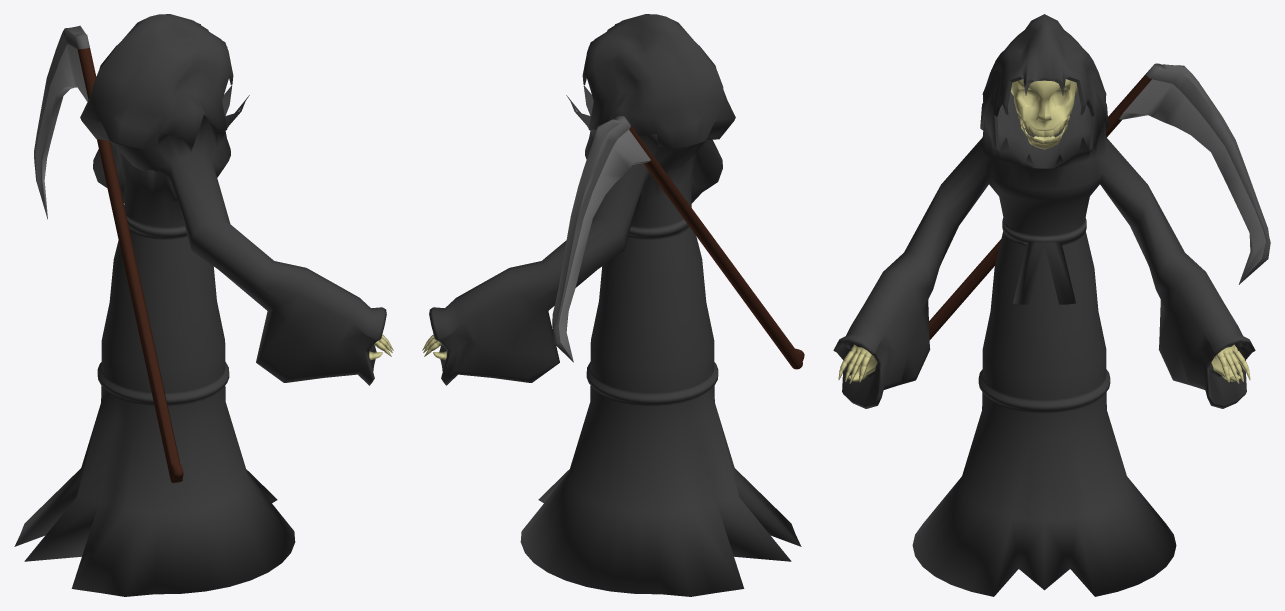
File: reaperwithscythe2.fbx
3 renders of one model, left to right at view 1: azimuth 30°, elevation 25°; view 2: azimuth 150°, elevation 25°; view 3: azimuth 270°, elevation 25°, orthographic.
Visible parts, largest first — view 1: Body, Scythe; view 2: Body, Scythe; view 3: Body, Scythe, Head.
Boxes of the visible parts, box(x1,y1,x2,y2) form: Body: box(14, 14, 393, 596); Scythe: box(34, 25, 183, 483); Body: box(422, 14, 801, 596); Scythe: box(552, 116, 804, 369); Body: box(833, 14, 1255, 596); Scythe: box(929, 63, 1270, 339); Head: box(1010, 79, 1078, 149).
Bounding box in the file's own units: 196 × 360 × 272.
